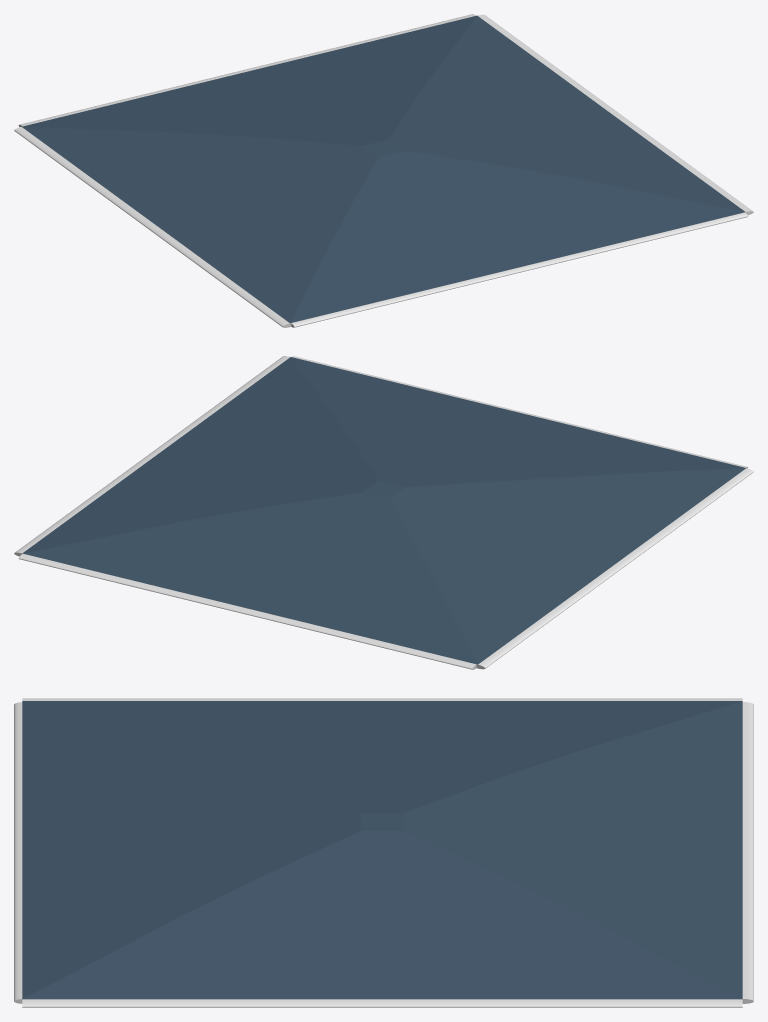
File: rag01.fbx
The picture shows the model from 3 angles, top to bottom: view 1: azimuth 30°, elevation 25°; view 2: azimuth 150°, elevation 25°; view 3: azimuth 270°, elevation 25°; orthographic projection. The views are drawn at different scales.
Visible parts, largest first — view 1: pCylinder10; view 2: pCylinder10; view 3: pCylinder10.
Boxes of the visible parts, box(x1,y1,x2,y2) form: pCylinder10: box(14, 14, 753, 327); pCylinder10: box(14, 356, 753, 669); pCylinder10: box(14, 698, 753, 1007).
Bounding box in the file's own units: 6.08 × 0.5662 × 6.16.
